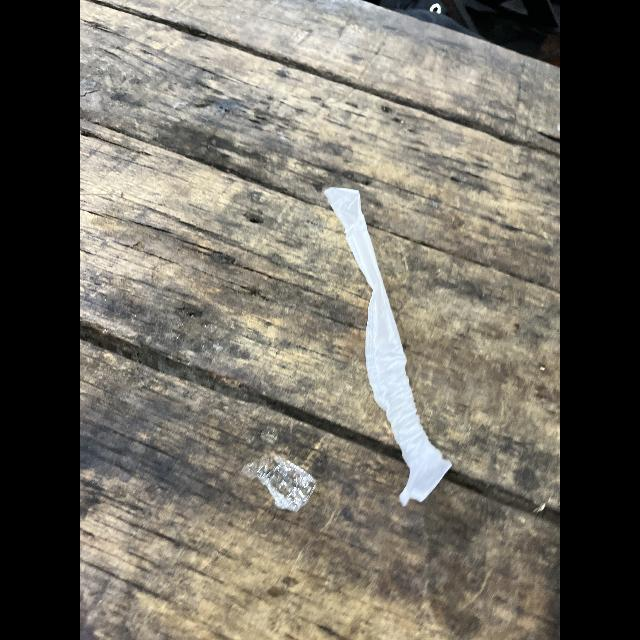scrap_plastic: (321, 178, 474, 504), (258, 461, 320, 513)
